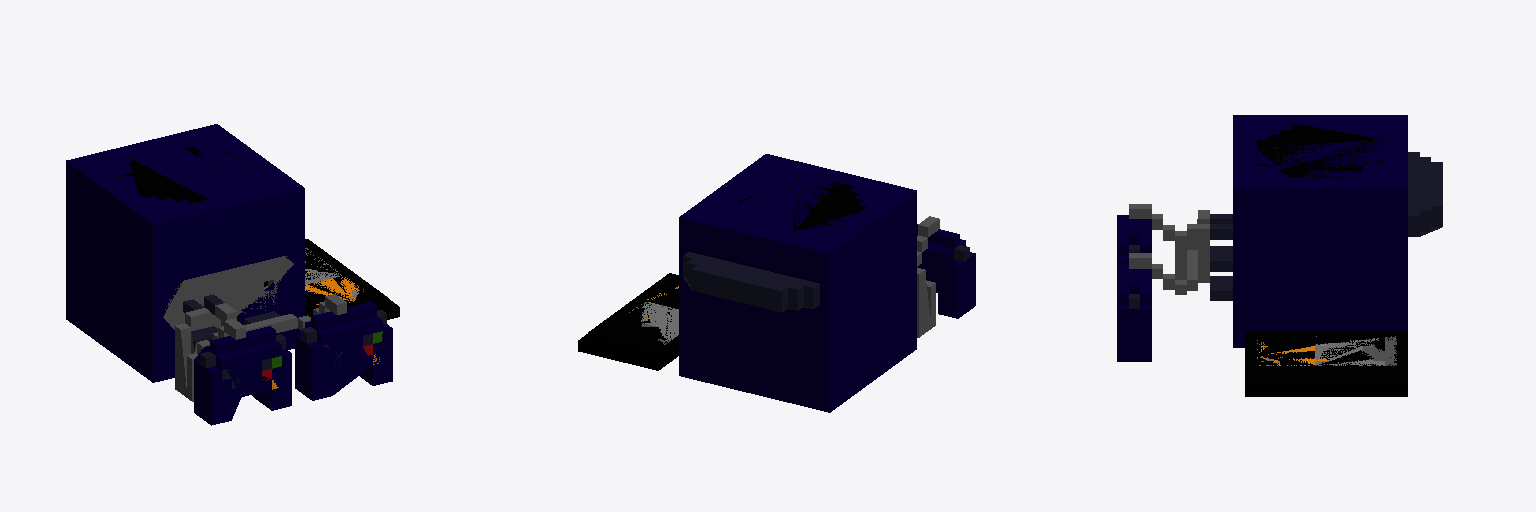
File: GameCube.obj
3 views of the same model, side by side, from view 1: azimuth 30°, elevation 25°; view 2: azimuth 150°, elevation 25°; view 3: azimuth 270°, elevation 25° (orthographic).
Visible parts, largest first — view 1: GameCube; view 2: GameCube; view 3: GameCube.
Part boxes in pixels (x1,y1,x2,y2): GameCube: (66, 124, 399, 425); GameCube: (578, 154, 975, 412); GameCube: (1117, 115, 1442, 396).
Size of the model in its own units: 1.56 by 0.9375 by 1.75.